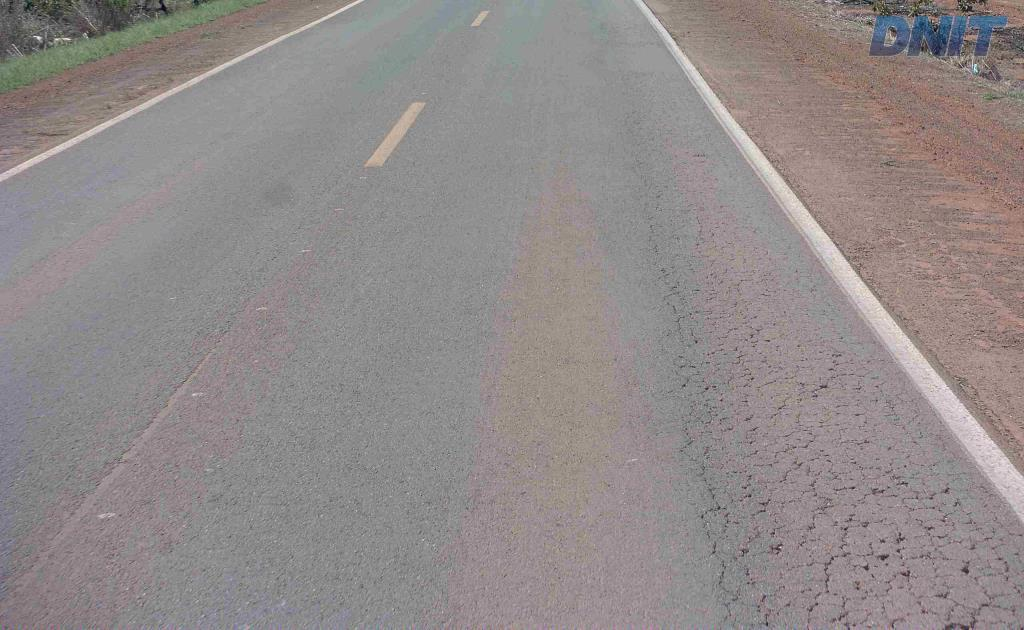crack: (695, 477, 739, 533)
